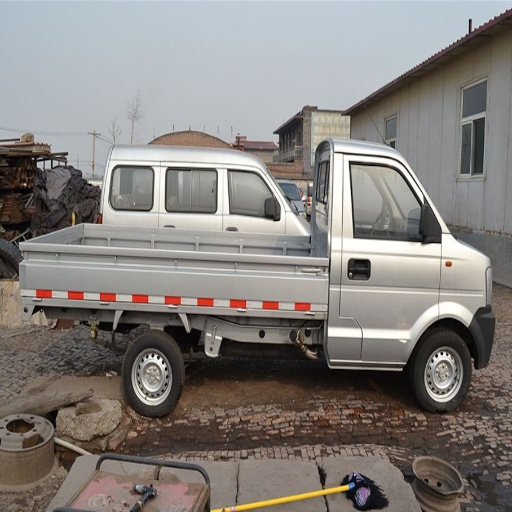trunk: (117, 235, 483, 367)
